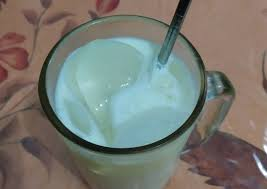produk_susu: (71, 43, 155, 136)
